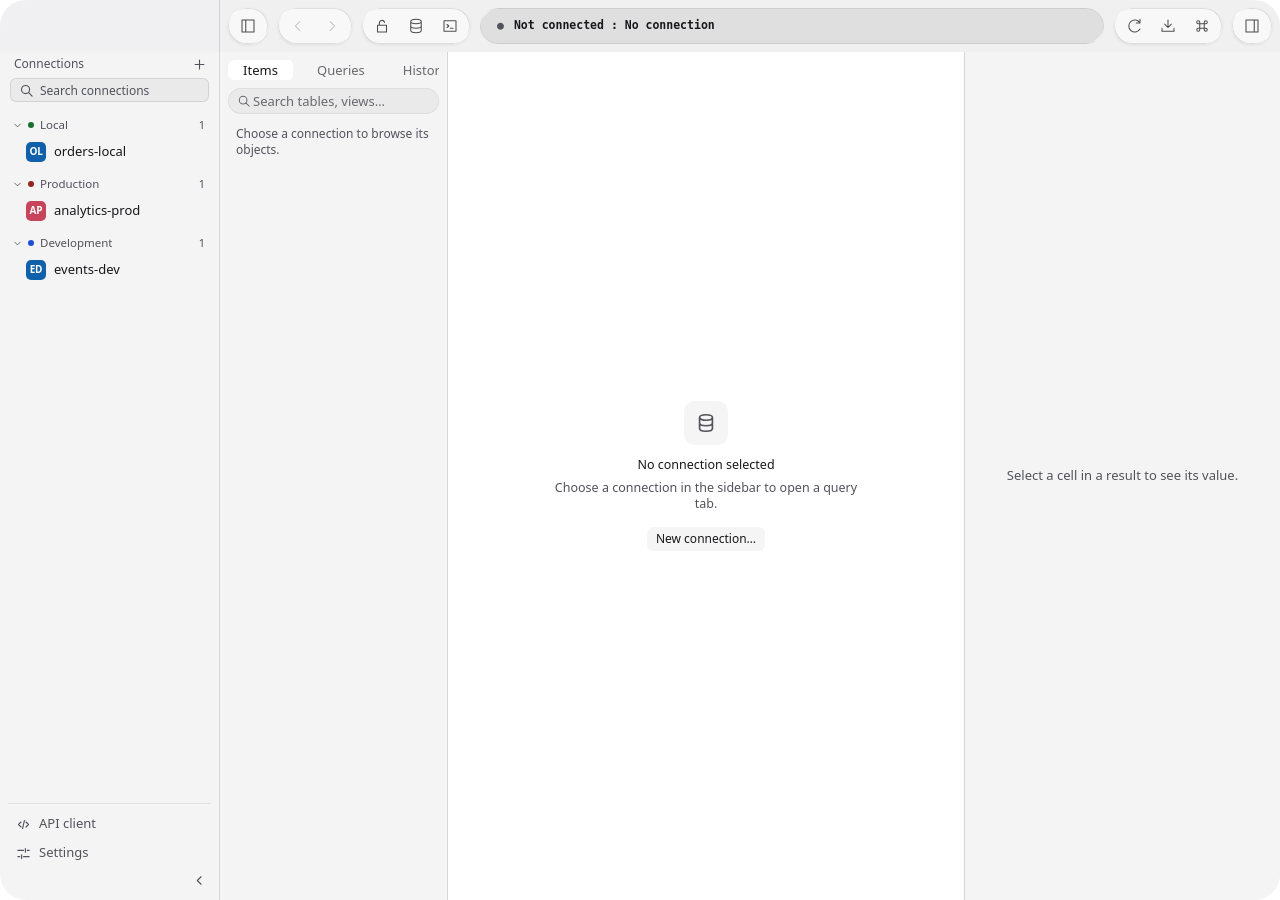
Test: starts empty when session restore is off
Expected: the button with aria-label "Switch to orders-local" is shown, [26,138,211,166]
Expected: the tab "invoices" is not shown
Step 1. Press p
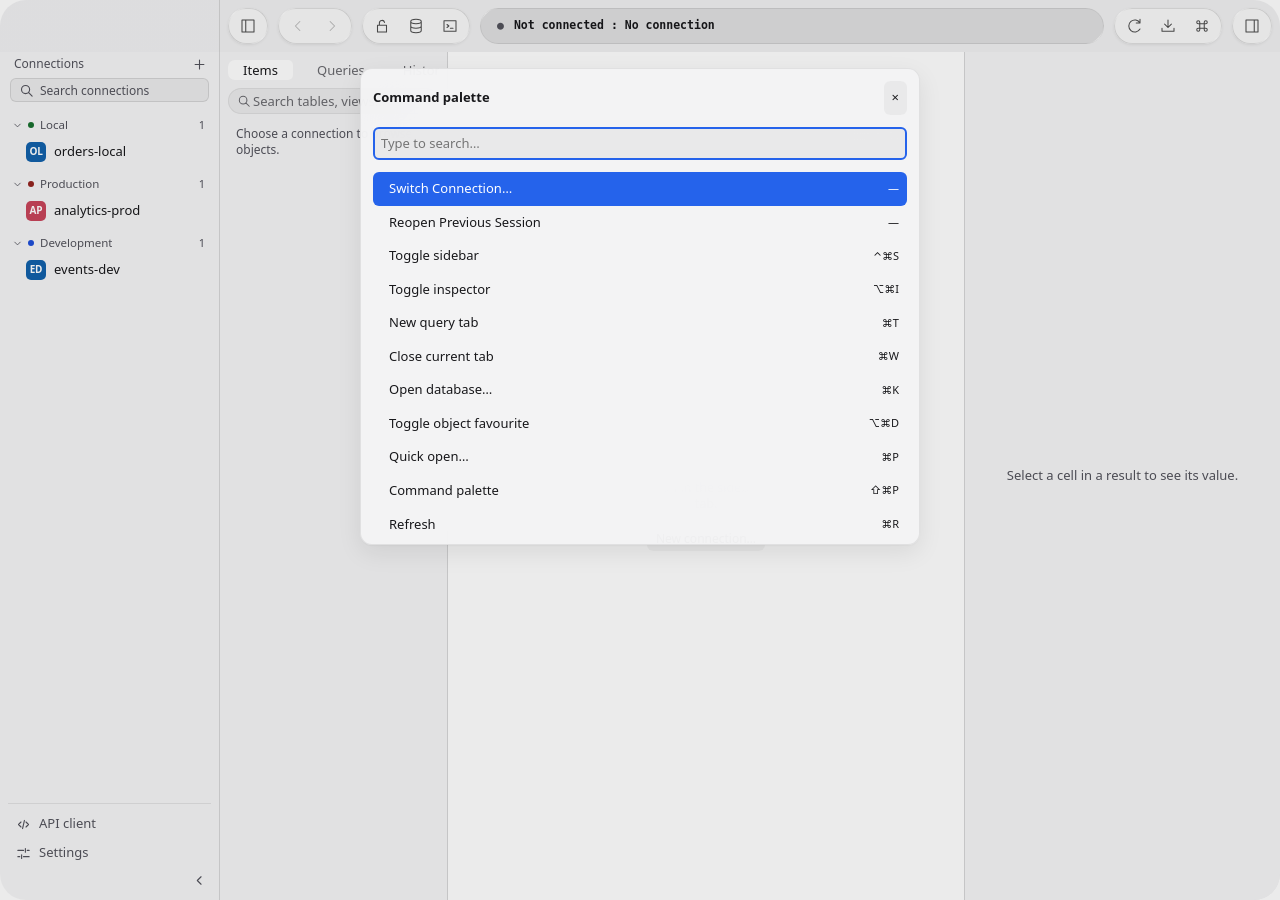
Step 2. Type "Reopen Previous Session" into the dropdown → (640, 143), box [373,126,907,160]
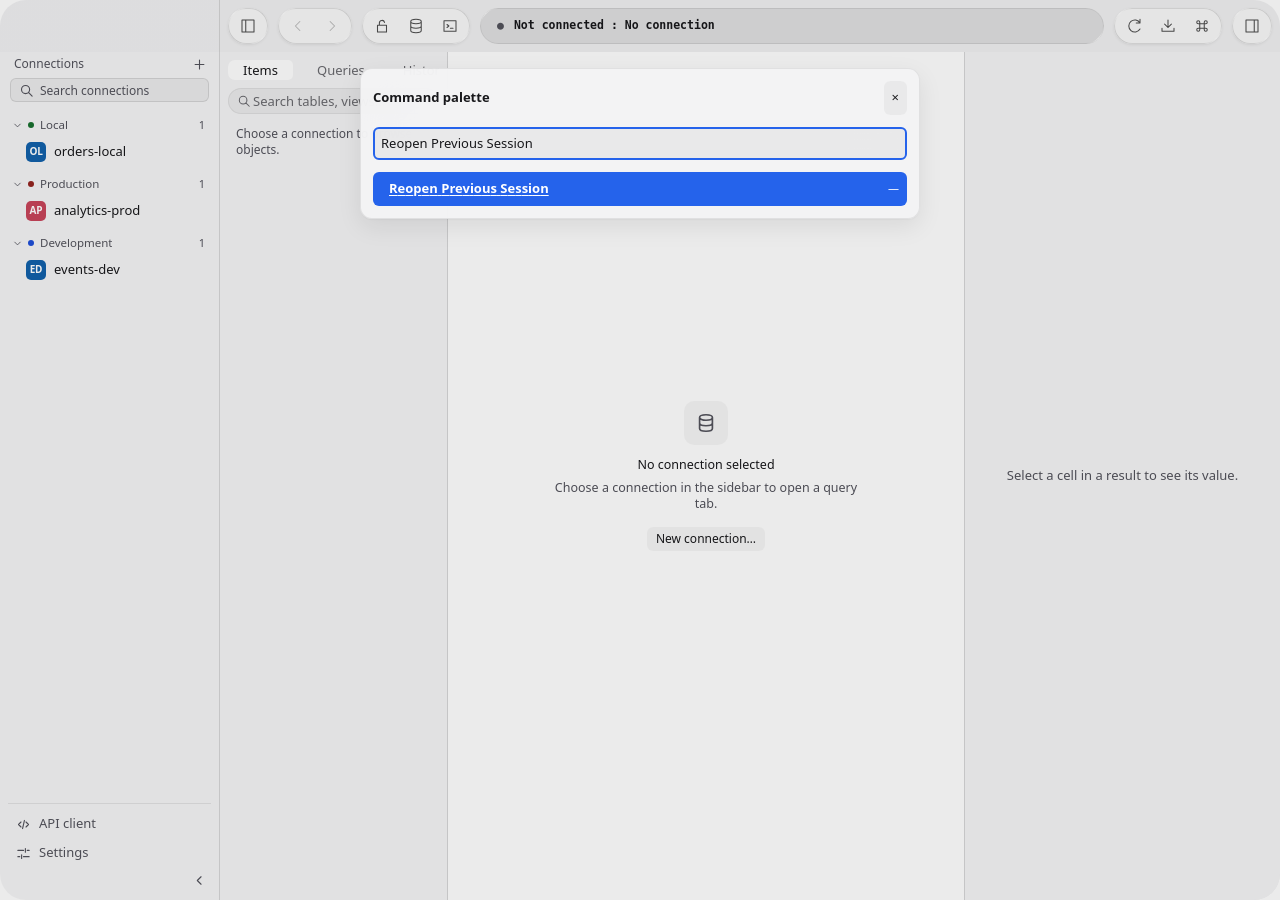
Step 3. Press Enter in the dropdown, box [373,126,907,160]
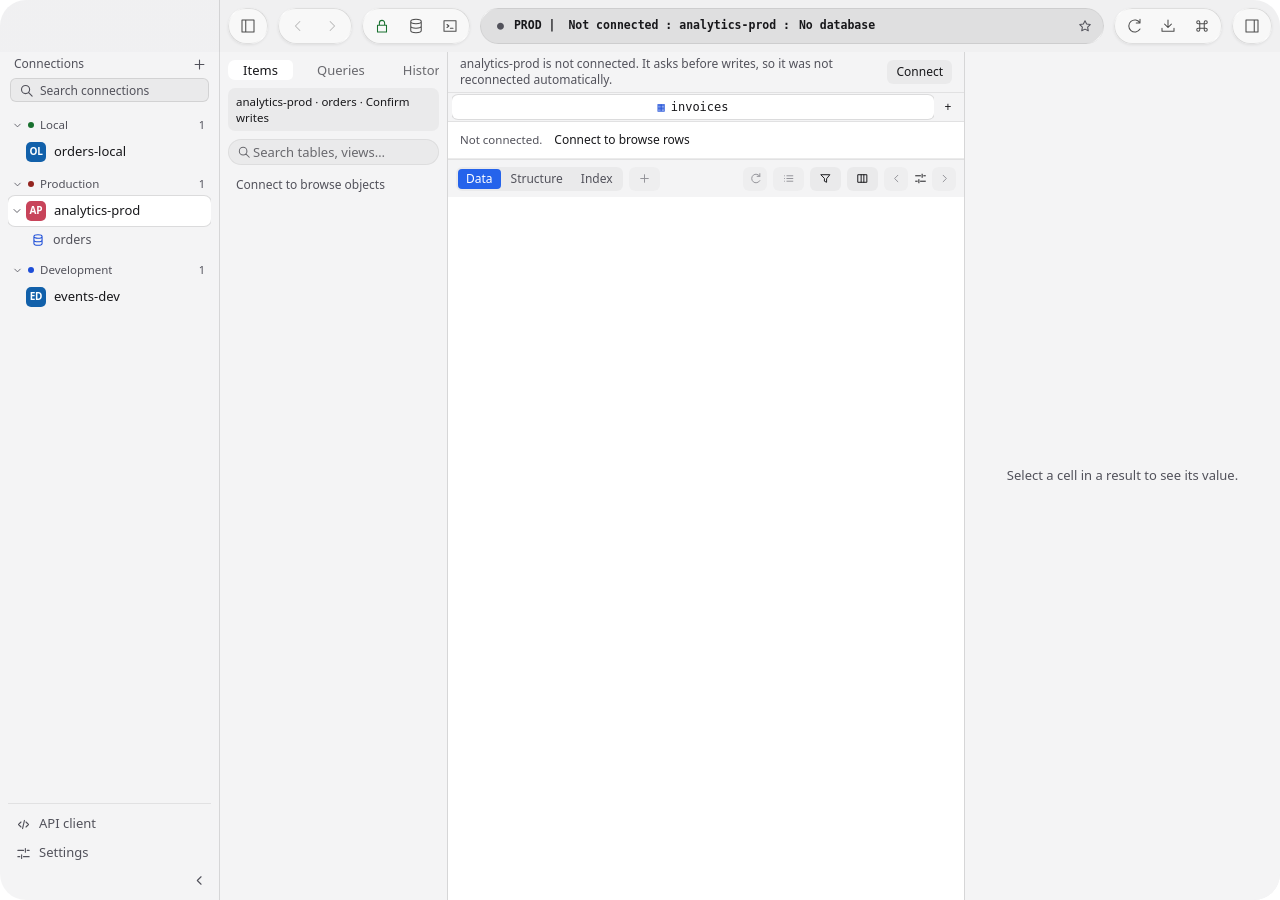
Now the tab "▦ invoices" is shown, box [452,95,934,119]
